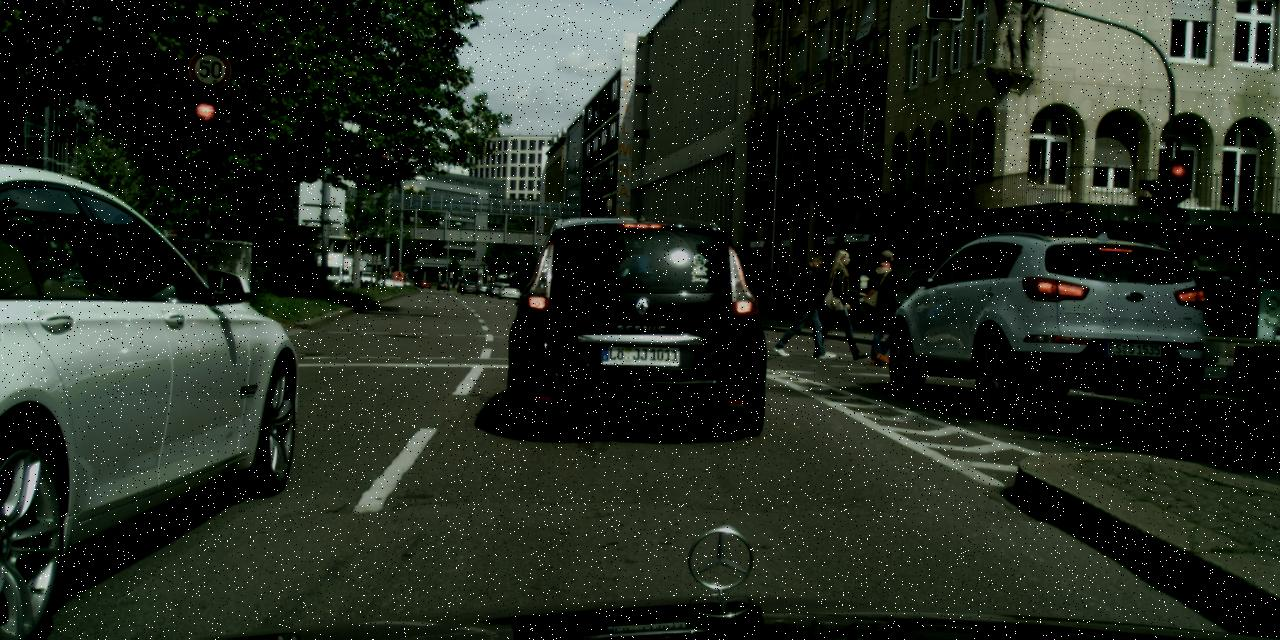ped: (860, 250, 907, 364), (818, 250, 862, 358), (789, 254, 829, 354)
